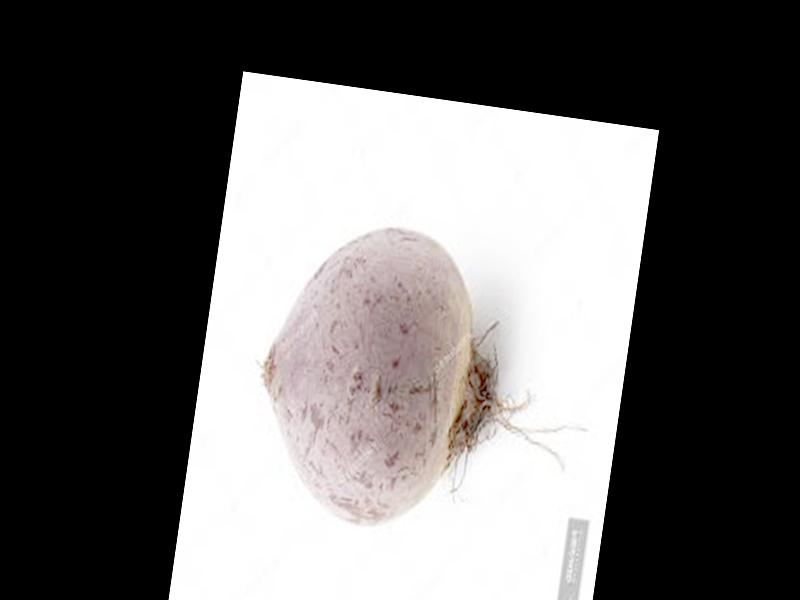Beet: (239, 210, 613, 557)
